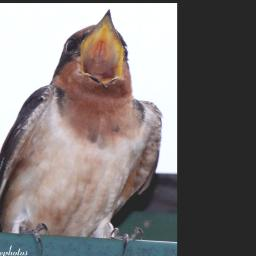Swallow: (0, 9, 163, 254)
